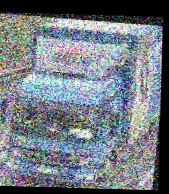truck: (0, 14, 163, 190)
